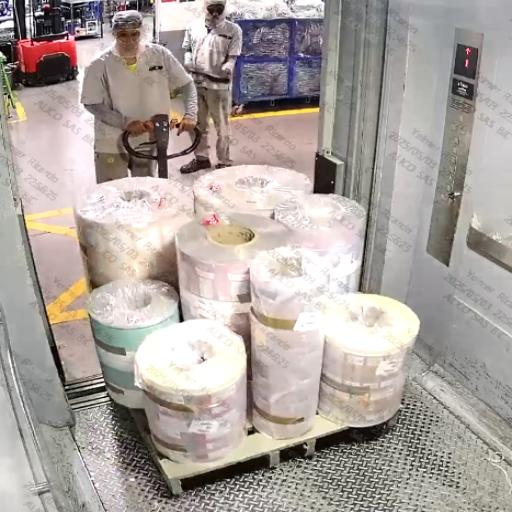Rollos sin amarrar: (63, 151, 470, 494)
